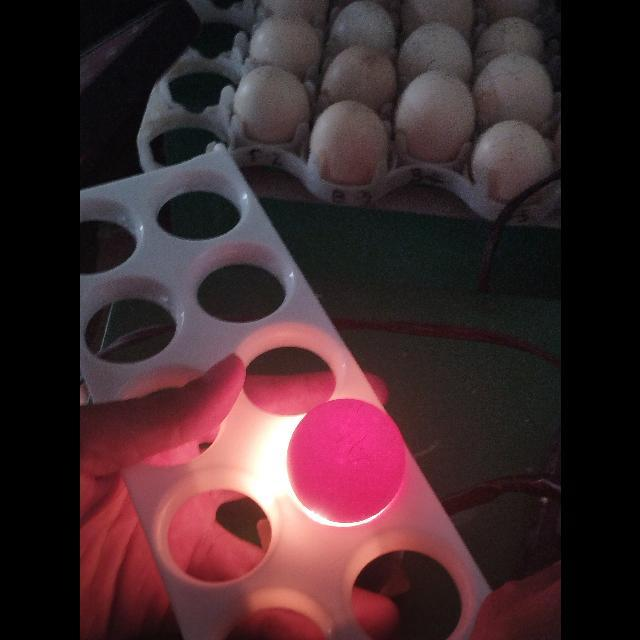Infertile: (286, 394, 410, 530)
